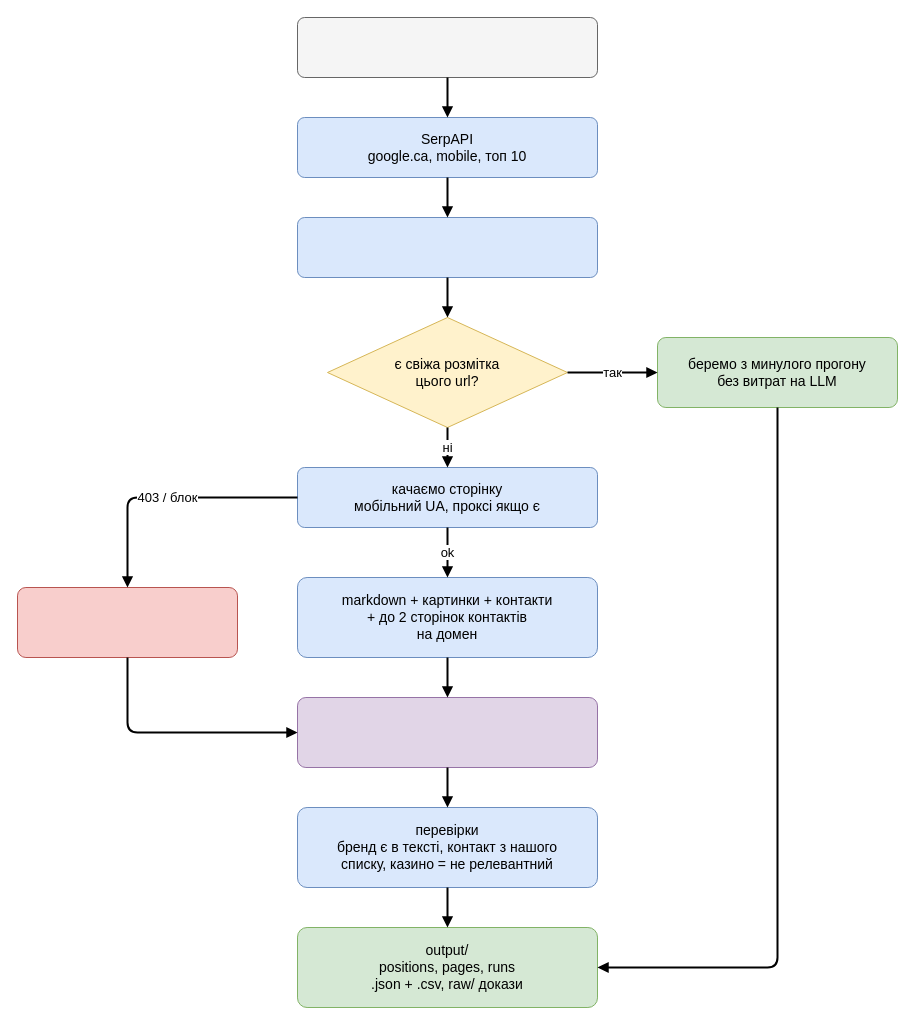
Some shapes in this 915 by 1025 pixel diagram are drawn without their labels. The centre of each missing label's shape, as x and y in pixels:
"config.json + .env регіони, ключі, API ключі" belongs at (447,47).
"LLM: OpenAI або DeepSeek json: тип, relevant, profit, бренди, контакт" belongs at (447,732).
"positions повтор в той самий день замінює день" belongs at (447,247).
"тільки заголовок і сніпет Google" belongs at (127,622).
